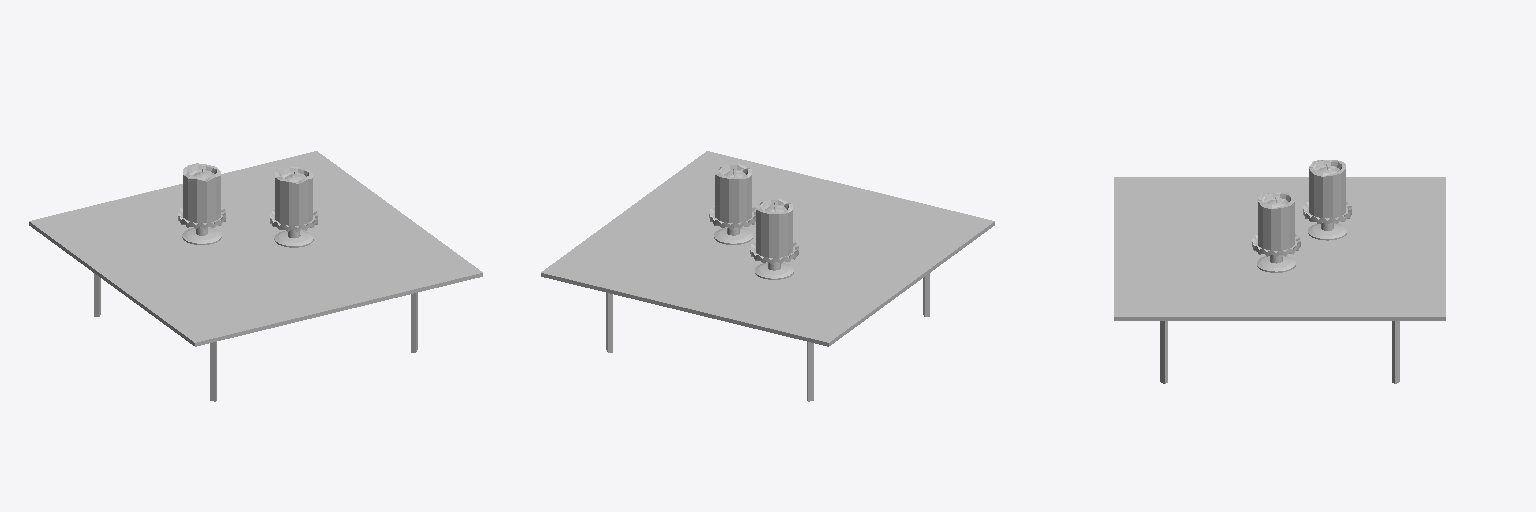
Rendered from coffeeTable.obj.
3 views of the same model, side by side, from view 1: azimuth 30°, elevation 25°; view 2: azimuth 150°, elevation 25°; view 3: azimuth 270°, elevation 25° (orthographic).
Parts seen in each view (by area): view 1: SofaTable:Table_045Glass; view 2: SofaTable:Table_045Glass; view 3: SofaTable:Table_045Glass.
Part boxes in pixels (x1,y1,x2,y2): SofaTable:Table_045Glass: (29, 151, 482, 401); SofaTable:Table_045Glass: (541, 151, 994, 401); SofaTable:Table_045Glass: (1114, 160, 1445, 383).
Size of the model in its own units: 0.6094 by 0.3131 by 0.6094.